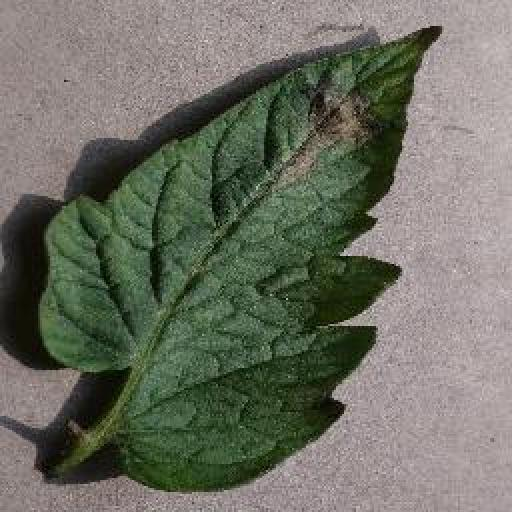disease_tomato: (43, 24, 445, 490)
